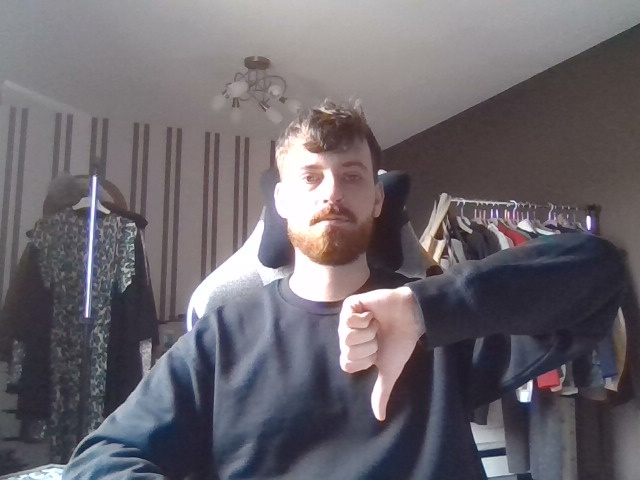Thumbs Down: (329, 275, 430, 430)
